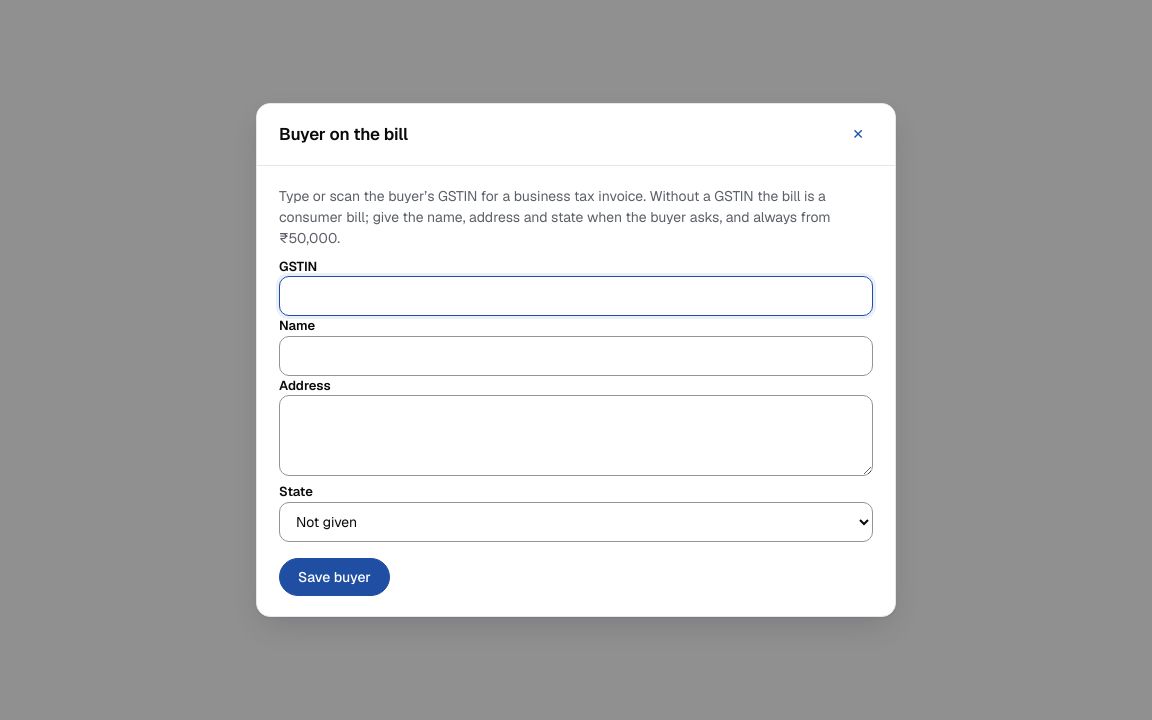
Test: BuyerDialog › a business invoice needs the name and address
Type "29AABCK1234A1Z5" into the field labelled "GSTIN".
click(576, 296); type("29AABCK1234A1Z5")  # box [279, 276, 873, 316]
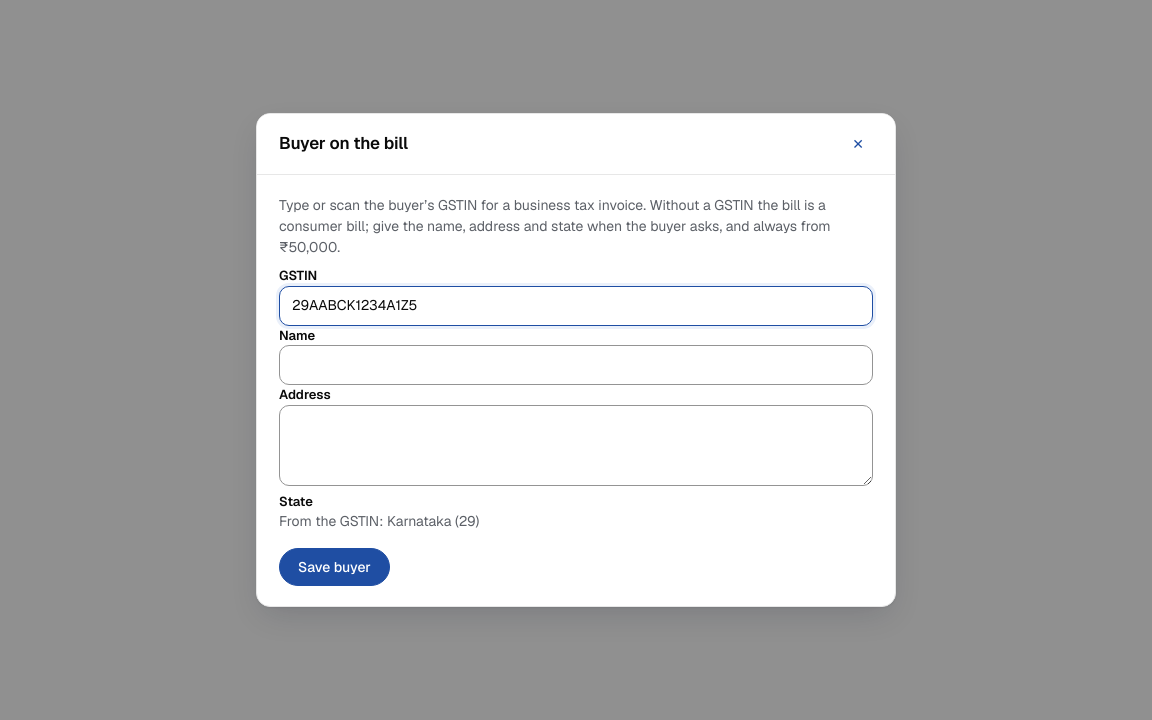
Click the button "Save buyer".
click(334, 567)  # box [279, 548, 390, 586]
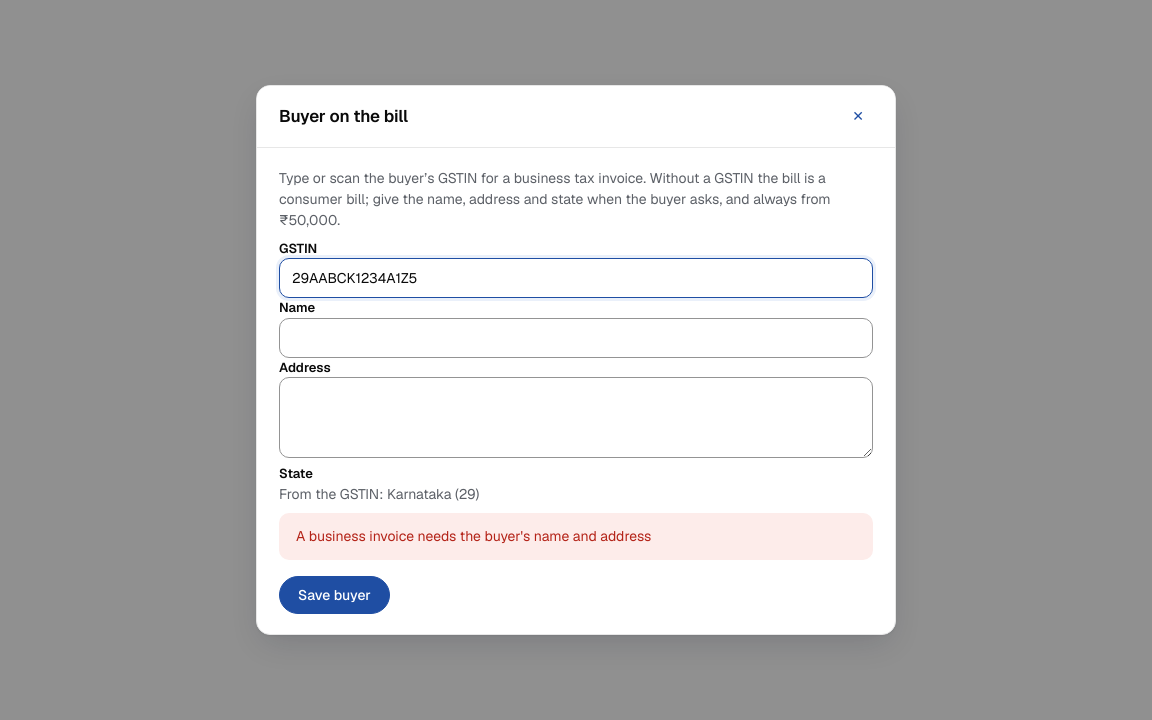
Expected: the text "A business invoice needs the buyer's name and address" is shown, [279, 513, 873, 560]
